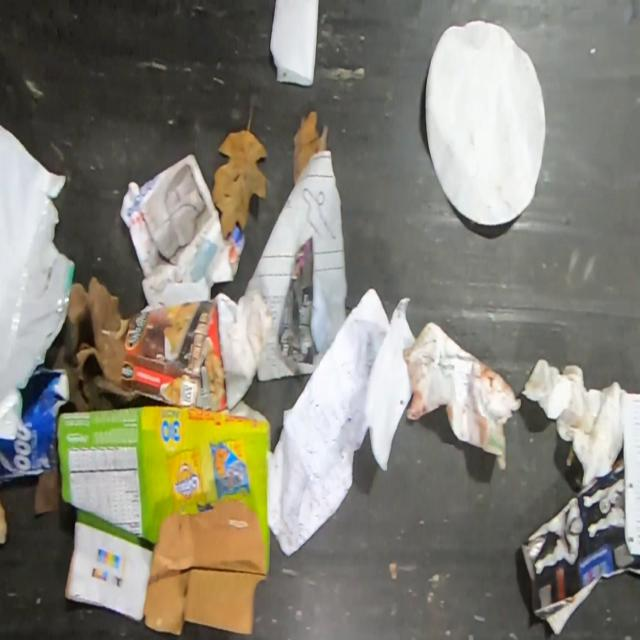cardboard: (54, 403, 271, 636), (65, 275, 272, 412), (0, 504, 7, 544)
soft_plastic: (0, 125, 75, 440)
